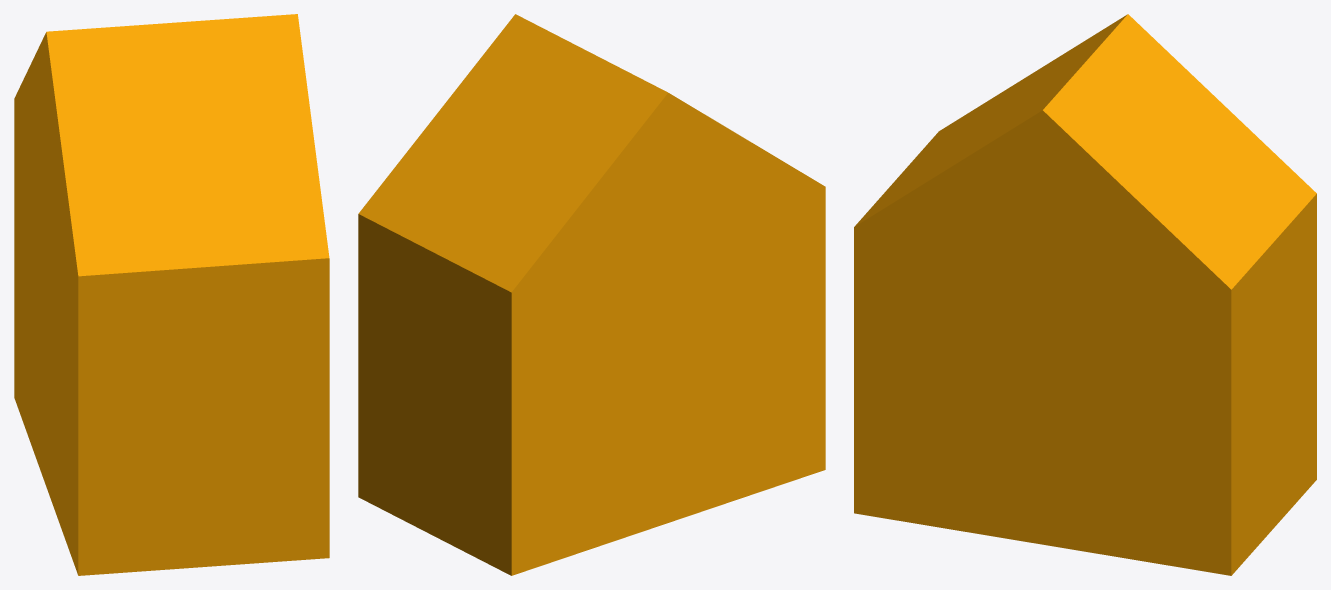
The model's file is DEHB01ALs0000frK.gltf.
3 renders of one model, left to right at view 1: azimuth 30°, elevation 25°; view 2: azimuth 150°, elevation 25°; view 3: azimuth 270°, elevation 25°, orthographic. The views are drawn at different scales.
Parts seen in each view (by area): view 1: Z_UP; view 2: Z_UP; view 3: Z_UP.
Boxes of the visible parts, x1,y1,x2,y2 form: Z_UP: [14, 14, 329, 575]; Z_UP: [358, 14, 825, 575]; Z_UP: [854, 14, 1316, 575].
Bounding box in the file's own units: 9.28 × 11.84 × 11.43.
